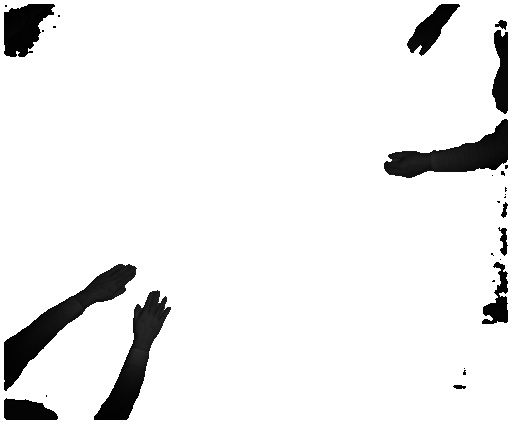hand: (133, 291, 175, 347), (86, 264, 140, 304), (400, 16, 442, 55), (384, 148, 428, 183)
